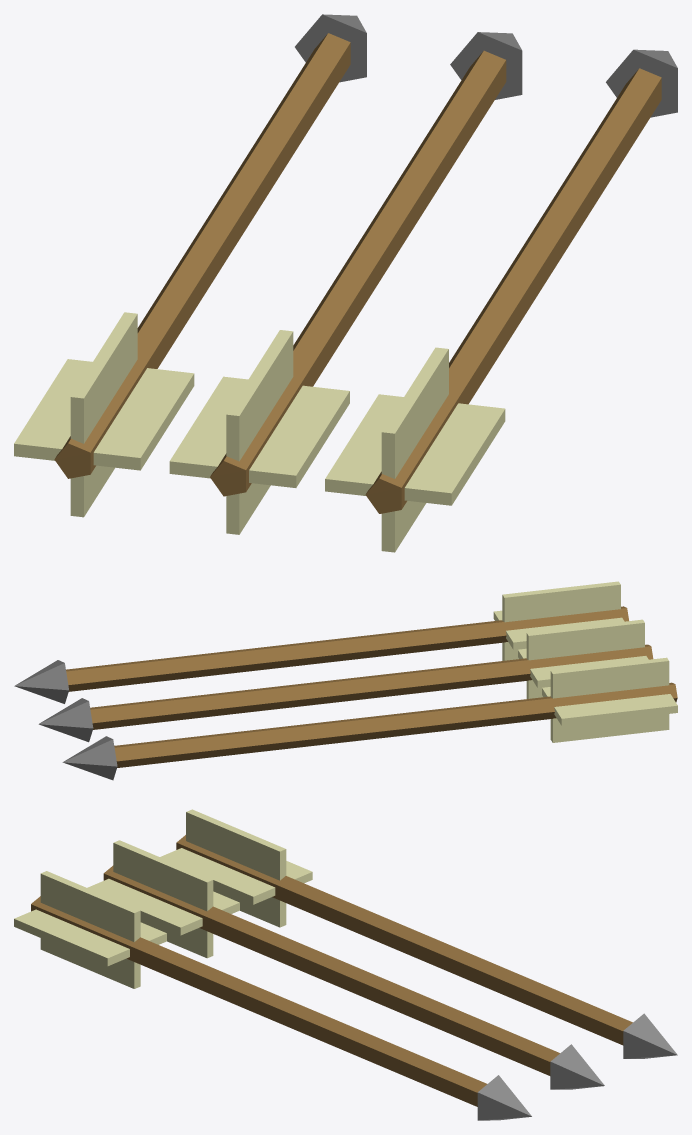
Rendered from ce_ammo2_great_stone_b.obj.
3 views of the same model, one above another, from view 1: azimuth 30°, elevation 25°; view 2: azimuth 150°, elevation 25°; view 3: azimuth 270°, elevation 25° (orthographic). The views are drawn at different scales.
Parts seen in each view (by area): view 1: ce_ammo2_great_stone_b_4, ce_ammo2_great_stone_b_0, ce_ammo2_great_stone_b_8, ce_ammo2_great_stone_b_6, ce_ammo2_great_stone_b_2, ce_ammo2_great_stone_b_10, ce_ammo2_great_stone_b_3, ce_ammo2_great_stone_b_11, ce_ammo2_great_stone_b_7, ce_ammo2_great_stone_b_5, ce_ammo2_great_stone_b_1, ce_ammo2_great_stone_b_9; view 2: ce_ammo2_great_stone_b_0, ce_ammo2_great_stone_b_4, ce_ammo2_great_stone_b_8, ce_ammo2_great_stone_b_3, ce_ammo2_great_stone_b_11, ce_ammo2_great_stone_b_7, ce_ammo2_great_stone_b_2, ce_ammo2_great_stone_b_1, ce_ammo2_great_stone_b_5, ce_ammo2_great_stone_b_9, ce_ammo2_great_stone_b_10, ce_ammo2_great_stone_b_6; view 3: ce_ammo2_great_stone_b_4, ce_ammo2_great_stone_b_0, ce_ammo2_great_stone_b_8, ce_ammo2_great_stone_b_11, ce_ammo2_great_stone_b_3, ce_ammo2_great_stone_b_7, ce_ammo2_great_stone_b_10, ce_ammo2_great_stone_b_2, ce_ammo2_great_stone_b_6, ce_ammo2_great_stone_b_9, ce_ammo2_great_stone_b_5, ce_ammo2_great_stone_b_1.
Part boxes in pixels (<box>): ce_ammo2_great_stone_b_4: <box>210,50,506,496</box>; ce_ammo2_great_stone_b_0: <box>54,33,350,478</box>; ce_ammo2_great_stone_b_8: <box>365,68,661,513</box>; ce_ammo2_great_stone_b_6: <box>169,376,349,487</box>; ce_ammo2_great_stone_b_2: <box>14,359,194,470</box>; ce_ammo2_great_stone_b_10: <box>325,394,505,505</box>; ce_ammo2_great_stone_b_3: <box>70,312,137,517</box>; ce_ammo2_great_stone_b_11: <box>381,347,448,552</box>; ce_ammo2_great_stone_b_7: <box>226,330,293,534</box>; ce_ammo2_great_stone_b_5: <box>450,32,522,99</box>; ce_ammo2_great_stone_b_1: <box>295,14,366,82</box>; ce_ammo2_great_stone_b_9: <box>606,49,677,117</box>; ce_ammo2_great_stone_b_0: <box>114,682,677,767</box>; ce_ammo2_great_stone_b_4: <box>90,644,653,729</box>; ce_ammo2_great_stone_b_8: <box>66,606,628,691</box>; ce_ammo2_great_stone_b_3: <box>550,657,669,742</box>; ce_ammo2_great_stone_b_11: <box>502,581,620,660</box>; ce_ammo2_great_stone_b_7: <box>526,619,644,698</box>; ce_ammo2_great_stone_b_2: <box>542,687,677,725</box>; ce_ammo2_great_stone_b_1: <box>62,736,117,780</box>; ce_ammo2_great_stone_b_5: <box>38,698,93,742</box>; ce_ammo2_great_stone_b_9: <box>14,660,69,703</box>; ce_ammo2_great_stone_b_10: <box>493,610,624,649</box>; ce_ammo2_great_stone_b_6: <box>518,648,648,687</box>; ce_ammo2_great_stone_b_4: <box>103,865,560,1075</box>; ce_ammo2_great_stone_b_0: <box>176,835,632,1045</box>; ce_ammo2_great_stone_b_8: <box>31,896,486,1106</box>; ce_ammo2_great_stone_b_11: <box>40,871,140,988</box>; ce_ammo2_great_stone_b_3: <box>186,809,286,927</box>; ce_ammo2_great_stone_b_7: <box>113,840,213,958</box>; ce_ammo2_great_stone_b_10: <box>14,909,166,966</box>; ce_ammo2_great_stone_b_2: <box>160,848,312,904</box>; ce_ammo2_great_stone_b_6: <box>87,878,239,935</box>; ce_ammo2_great_stone_b_9: <box>477,1075,531,1120</box>; ce_ammo2_great_stone_b_5: <box>550,1044,604,1089</box>; ce_ammo2_great_stone_b_1: <box>623,1013,677,1058</box>.
Bounding box in the file's own units: 0.903 × 0.114 × 0.903.
